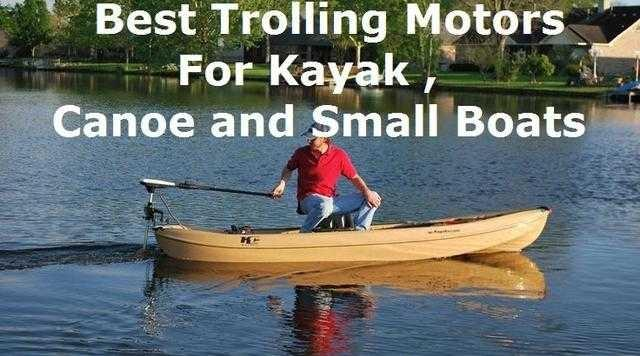kayak: (152, 205, 552, 267)
